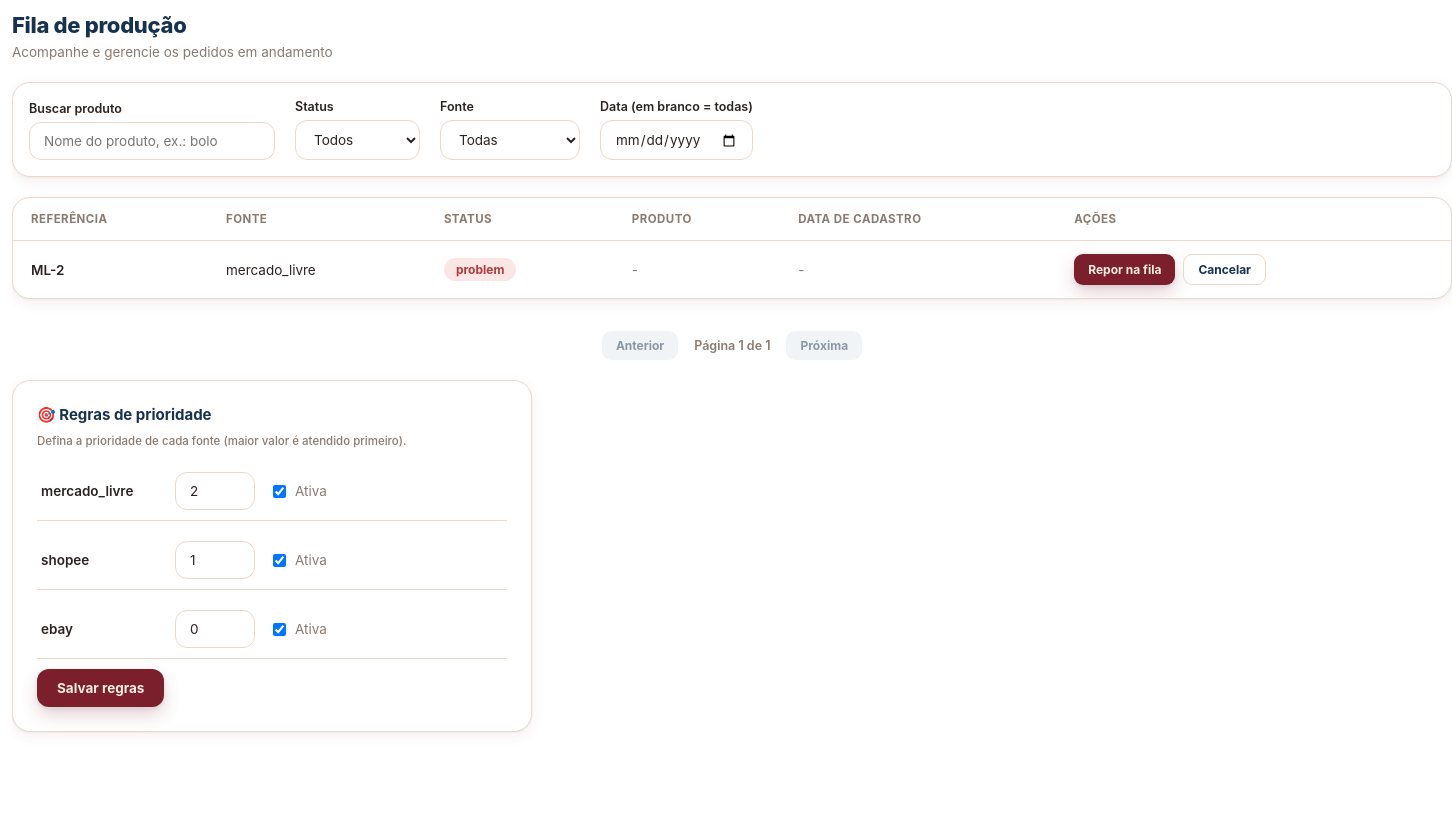
Test: QueueManagementScreen › mostra erro inline quando repor na fila falha
Click the button with test id "requeue-item-2": (1125, 270) x1=1074 y1=254 x2=1175 y2=285
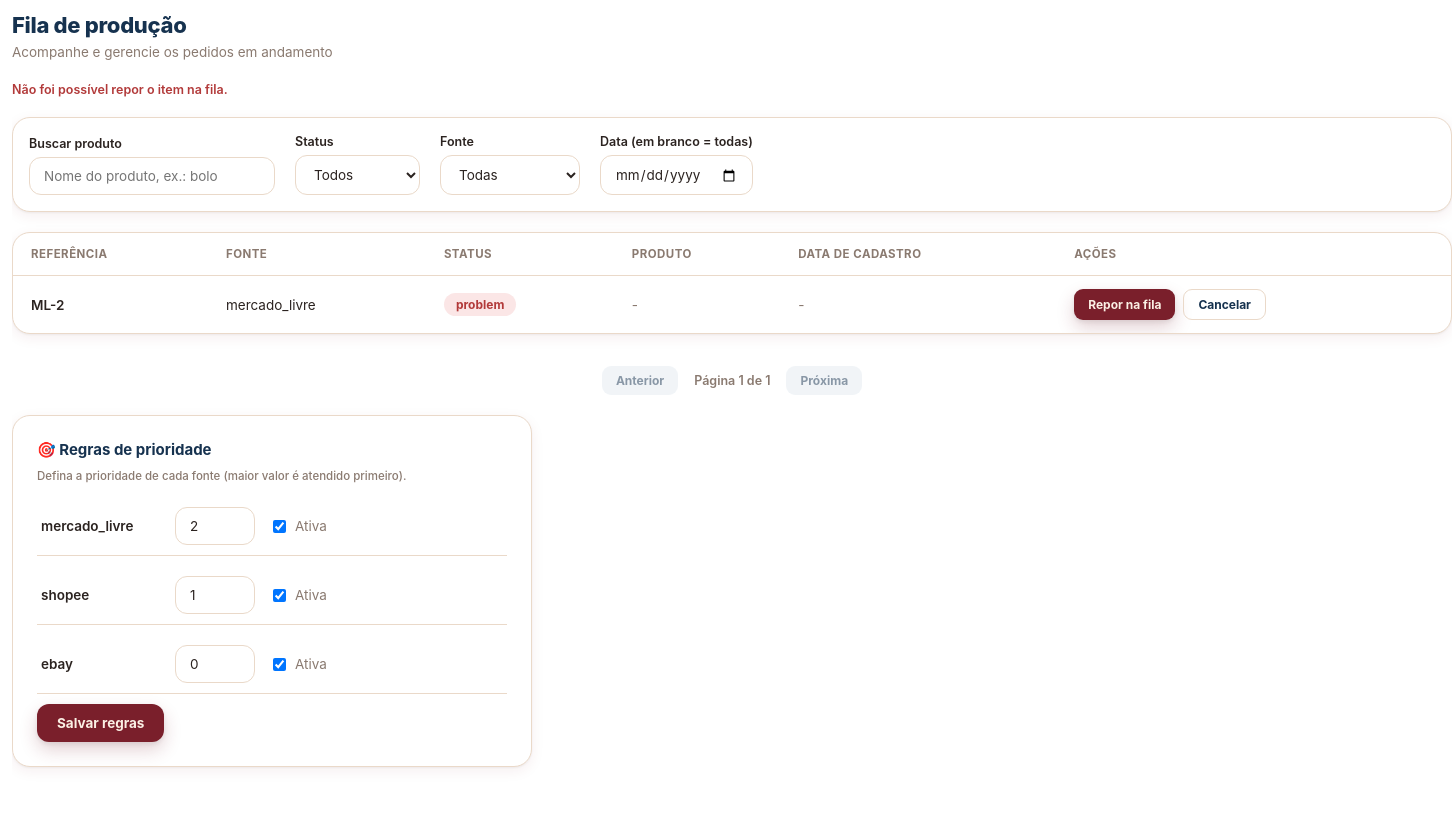
Expected: the text "Não foi possível repor o item na fila." is shown, x1=12 y1=82 x2=228 y2=97
